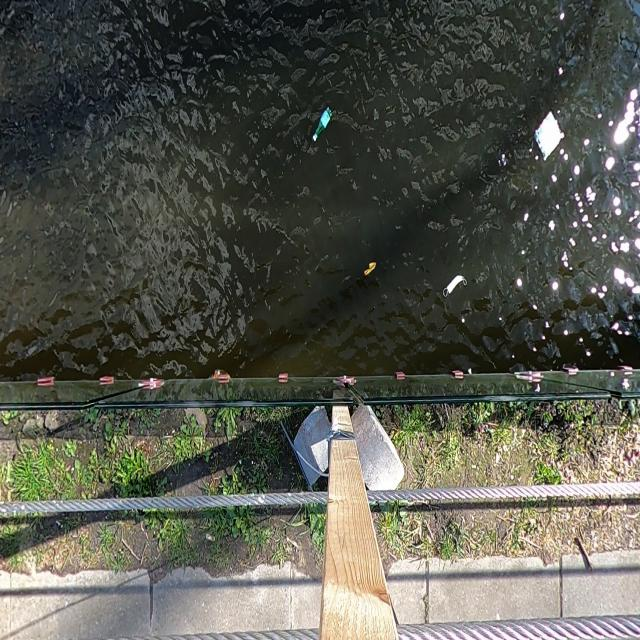Bouteille plastique: (311, 104, 336, 149)
Non plastique: (441, 273, 470, 298)
